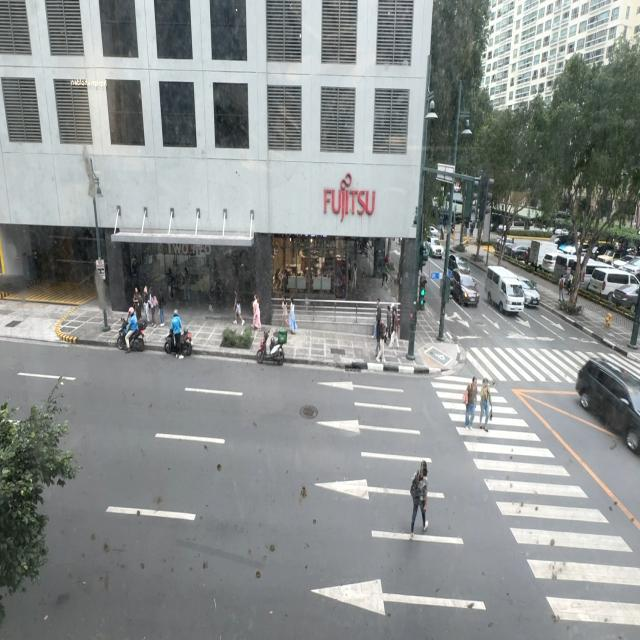jaywalking: (413, 460, 432, 538)
